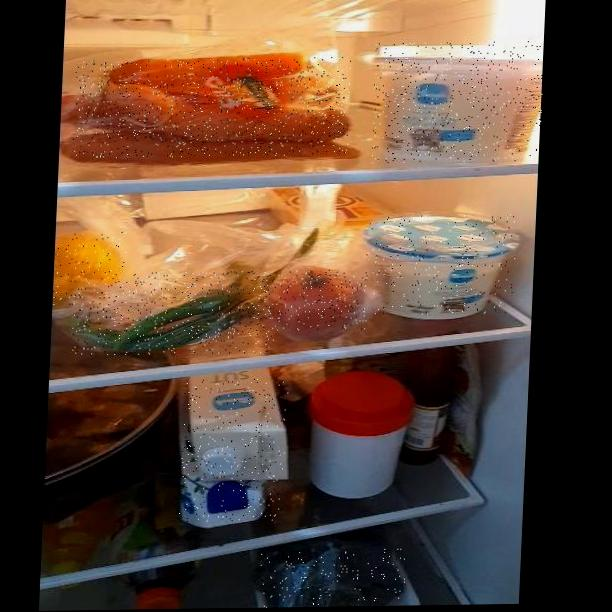broccoli: (257, 549, 407, 608)
carrot: (72, 57, 352, 159)
green chilies: (71, 271, 279, 356)
lemon: (52, 232, 128, 305)
milk: (179, 379, 289, 522)
tomato: (270, 269, 369, 331)
yoghurt: (371, 41, 545, 163), (364, 214, 517, 315)
